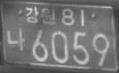0: (50, 31, 69, 63)
1: (76, 9, 88, 27)
5: (71, 32, 89, 65)
6: (31, 30, 48, 62)
8: (61, 8, 74, 26)
9: (92, 33, 109, 66)
강원_O: (25, 6, 55, 26)
나: (6, 26, 26, 51)
